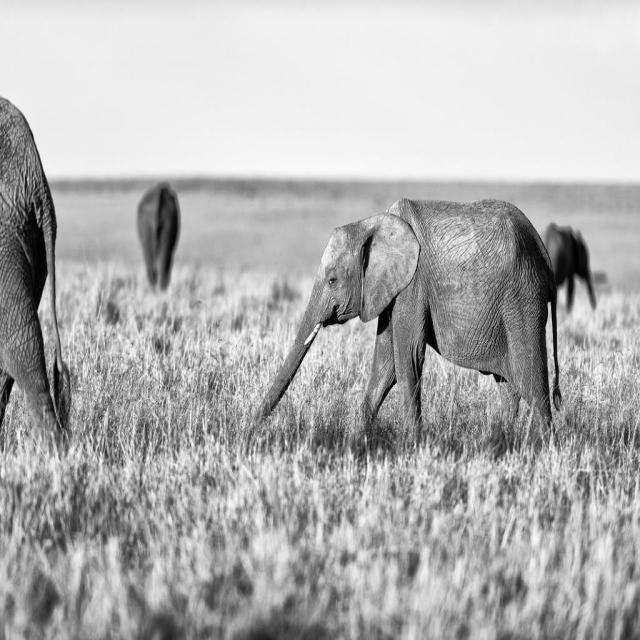Elephant: (252, 196, 562, 451), (0, 93, 72, 456), (544, 220, 597, 314), (136, 180, 180, 292)
